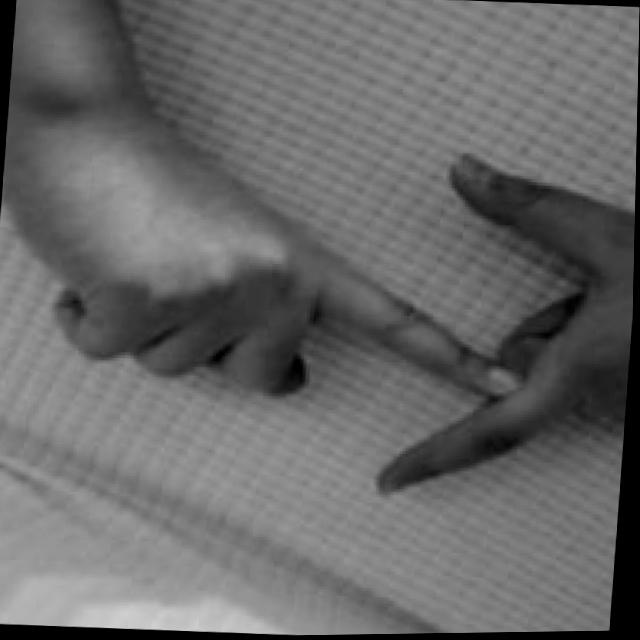F: (38, 94, 638, 511)
